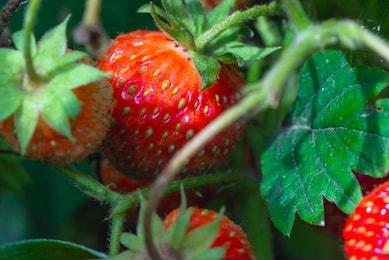Fresa: (97, 21, 263, 191)
